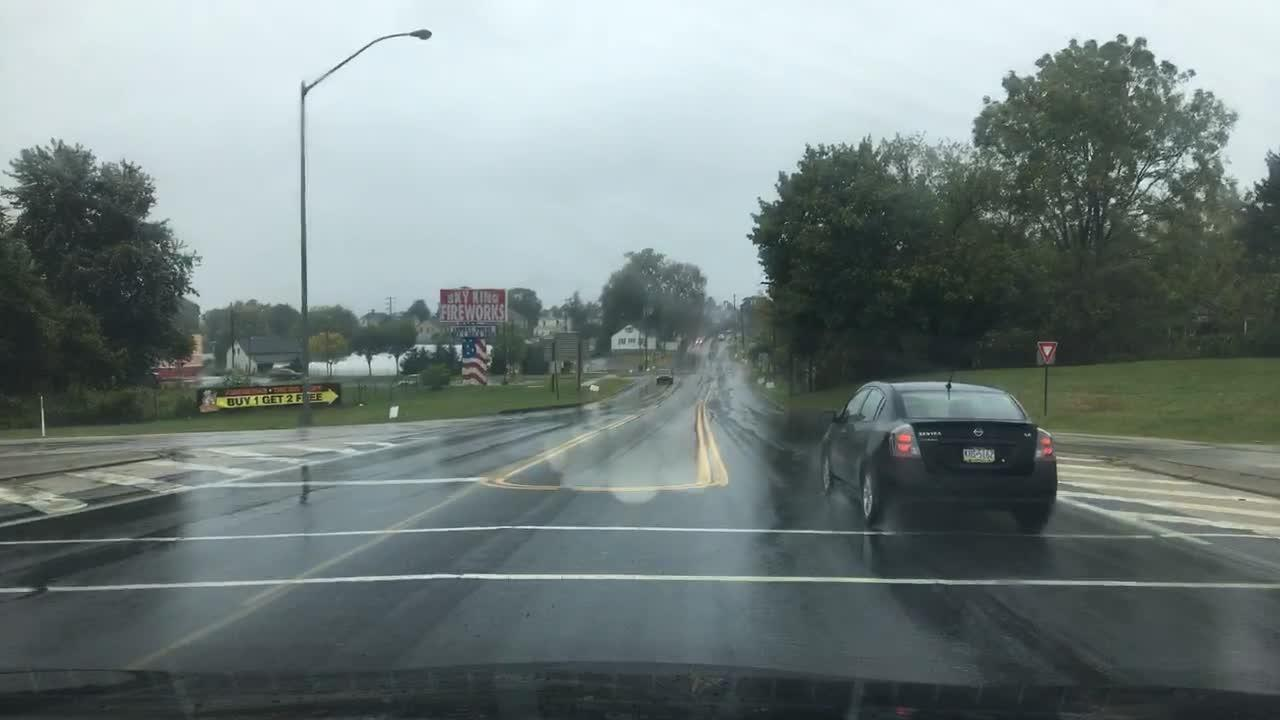Nissan: (969, 423, 988, 442)
